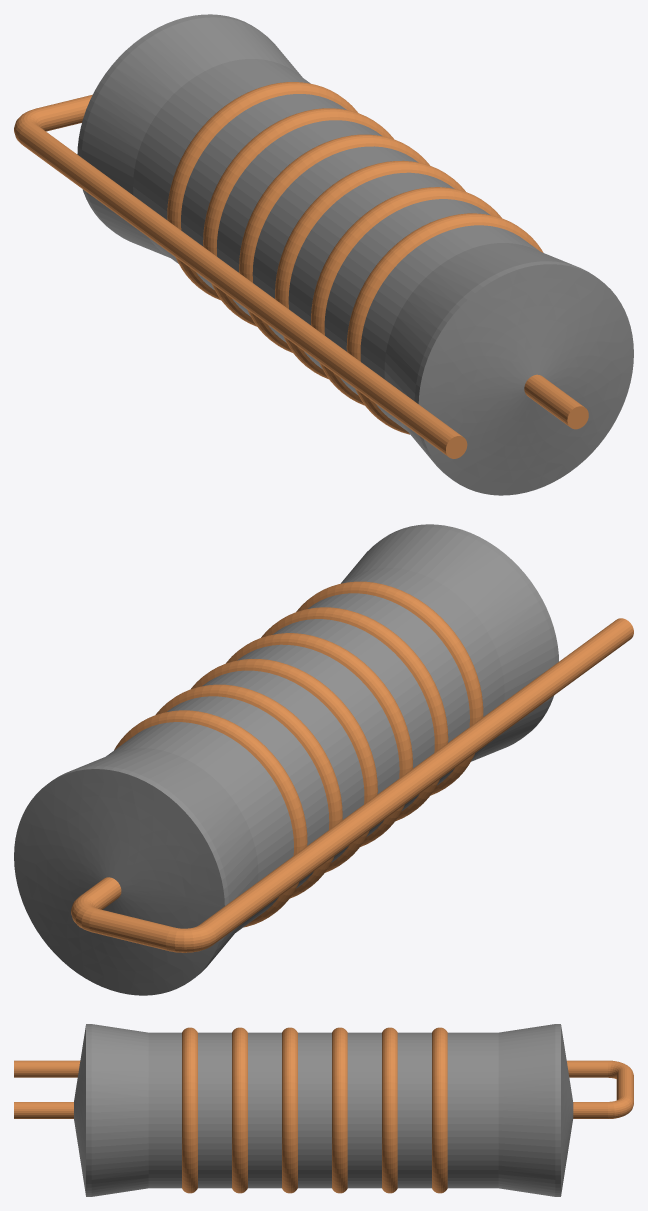
The model's file is L_Axial_L26.0mm_D9.0mm_P5.08mm_Vertical_Fastron_77A.glb.
3 renders of one model, top to bottom at view 1: azimuth 30°, elevation 25°; view 2: azimuth 150°, elevation 25°; view 3: azimuth 270°, elevation 25°, orthographic. The views are drawn at different scales.
Visible parts, largest first — view 1: Shape_IndexedFaceSet.002, Shape_IndexedFaceSet.018, Shape_IndexedFaceSet.025, Shape_IndexedFaceSet.017, Shape_IndexedFaceSet.004, Shape_IndexedFaceSet.005, Shape_IndexedFaceSet.011, Shape_IndexedFaceSet.007, Shape_IndexedFaceSet.009, Shape_IndexedFaceSet.013, Shape_IndexedFaceSet.015, Shape_IndexedFaceSet.006 (+9 smaller); view 2: Shape_IndexedFaceSet.020, Shape_IndexedFaceSet.004, Shape_IndexedFaceSet.025, Shape_IndexedFaceSet.017, Shape_IndexedFaceSet.018, Shape_IndexedFaceSet.013, Shape_IndexedFaceSet.015, Shape_IndexedFaceSet.011, Shape_IndexedFaceSet.007, Shape_IndexedFaceSet.009, Shape_IndexedFaceSet.005, Shape_IndexedFaceSet.016 (+10 smaller); view 3: Shape_IndexedFaceSet.004, Shape_IndexedFaceSet.018, Shape_IndexedFaceSet.017, Shape_IndexedFaceSet.013, Shape_IndexedFaceSet.015, Shape_IndexedFaceSet.007, Shape_IndexedFaceSet.009, Shape_IndexedFaceSet.011, Shape_IndexedFaceSet.005, Shape_IndexedFaceSet.006, Shape_IndexedFaceSet.008, Shape_IndexedFaceSet.010 (+12 smaller).
Part boxes in pixels (x1,y1,x2,y2): Shape_IndexedFaceSet.002: [418, 264, 633, 495]; Shape_IndexedFaceSet.018: [81, 17, 301, 257]; Shape_IndexedFaceSet.025: [19, 123, 462, 456]; Shape_IndexedFaceSet.017: [133, 59, 310, 263]; Shape_IndexedFaceSet.004: [384, 243, 573, 459]; Shape_IndexedFaceSet.005: [360, 225, 538, 431]; Shape_IndexedFaceSet.011: [252, 146, 418, 342]; Shape_IndexedFaceSet.007: [324, 199, 490, 395]; Shape_IndexedFaceSet.009: [288, 172, 454, 369]; Shape_IndexedFaceSet.013: [217, 120, 382, 316]; Shape_IndexedFaceSet.015: [181, 94, 346, 289]; Shape_IndexedFaceSet.006: [346, 213, 543, 434]; Shape_IndexedFaceSet.020: [14, 769, 224, 995]; Shape_IndexedFaceSet.004: [341, 527, 554, 761]; Shape_IndexedFaceSet.025: [200, 618, 633, 943]; Shape_IndexedFaceSet.017: [106, 722, 293, 932]; Shape_IndexedFaceSet.018: [71, 748, 258, 960]; Shape_IndexedFaceSet.013: [202, 670, 364, 862]; Shape_IndexedFaceSet.015: [167, 696, 329, 888]; Shape_IndexedFaceSet.011: [237, 644, 399, 837]; Shape_IndexedFaceSet.007: [308, 593, 469, 785]; Shape_IndexedFaceSet.009: [272, 619, 434, 811]; Shape_IndexedFaceSet.005: [343, 568, 504, 759]; Shape_IndexedFaceSet.016: [114, 710, 307, 927]; Shape_IndexedFaceSet.004: [91, 1024, 148, 1196]; Shape_IndexedFaceSet.018: [498, 1024, 555, 1196]; Shape_IndexedFaceSet.017: [447, 1032, 498, 1188]; Shape_IndexedFaceSet.013: [347, 1032, 381, 1188]; Shape_IndexedFaceSet.015: [397, 1032, 431, 1188]; Shape_IndexedFaceSet.007: [198, 1032, 231, 1188]; Shape_IndexedFaceSet.009: [248, 1032, 281, 1188]; Shape_IndexedFaceSet.011: [298, 1032, 331, 1188]; Shape_IndexedFaceSet.005: [148, 1032, 181, 1188]; Shape_IndexedFaceSet.006: [182, 1027, 197, 1193]; Shape_IndexedFaceSet.008: [232, 1027, 247, 1193]; Shape_IndexedFaceSet.010: [282, 1027, 297, 1193].
Size of the model in its own units: 3.95 by 3.54 by 12.7.
